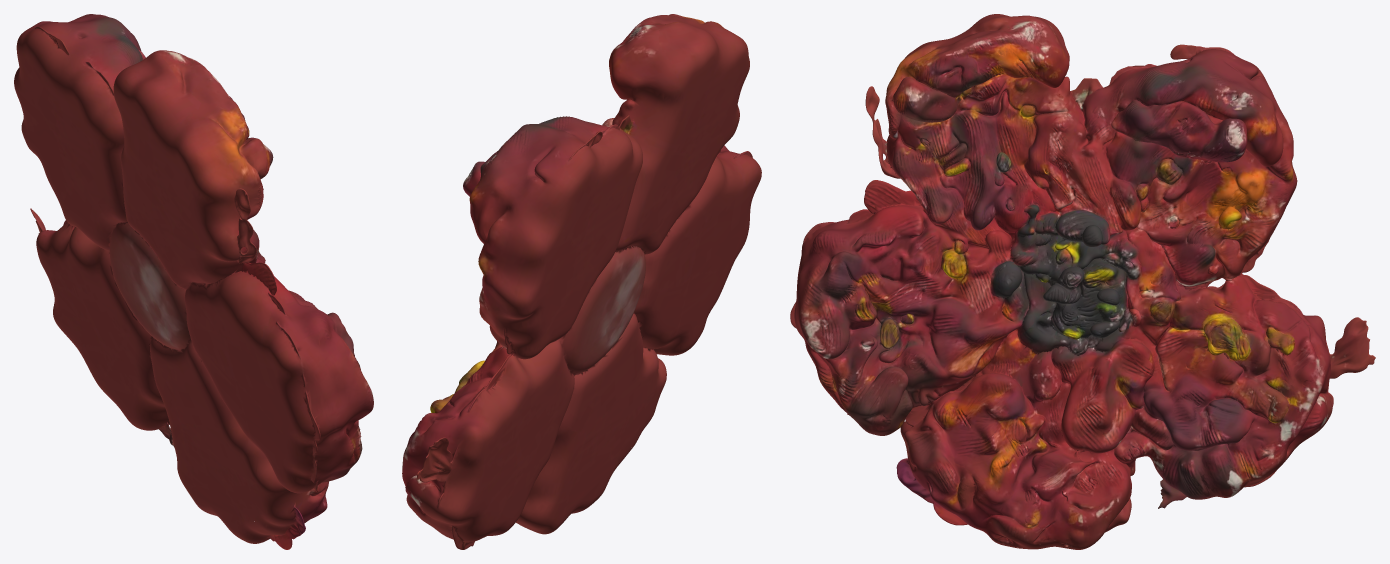
The model's file is poppy.glb.
3 views of the same model, side by side, from view 1: azimuth 30°, elevation 25°; view 2: azimuth 150°, elevation 25°; view 3: azimuth 270°, elevation 25° (orthographic). The views are drawn at different scales.
Parts seen in each view (by area): view 1: tripo_node_8689e7ae-35d3-4eec-8f29-15fe7e4a1e77; view 2: tripo_node_8689e7ae-35d3-4eec-8f29-15fe7e4a1e77; view 3: tripo_node_8689e7ae-35d3-4eec-8f29-15fe7e4a1e77.
Part boxes in pixels (x1,y1,x2,y2): tripo_node_8689e7ae-35d3-4eec-8f29-15fe7e4a1e77: [14, 14, 373, 549]; tripo_node_8689e7ae-35d3-4eec-8f29-15fe7e4a1e77: [402, 14, 761, 549]; tripo_node_8689e7ae-35d3-4eec-8f29-15fe7e4a1e77: [790, 14, 1375, 549].
Bounding box in the file's own units: 0.338 × 0.8899 × 0.9804.
1 material, 1 textured.
